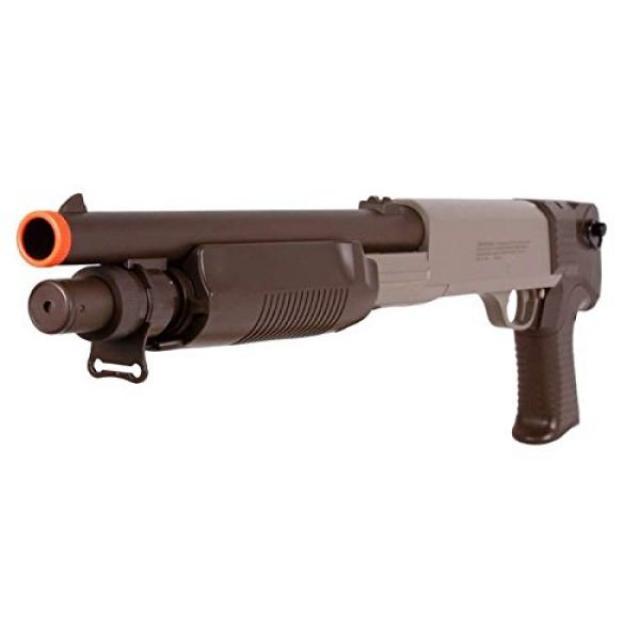ShotGun: (15, 194, 608, 447)
